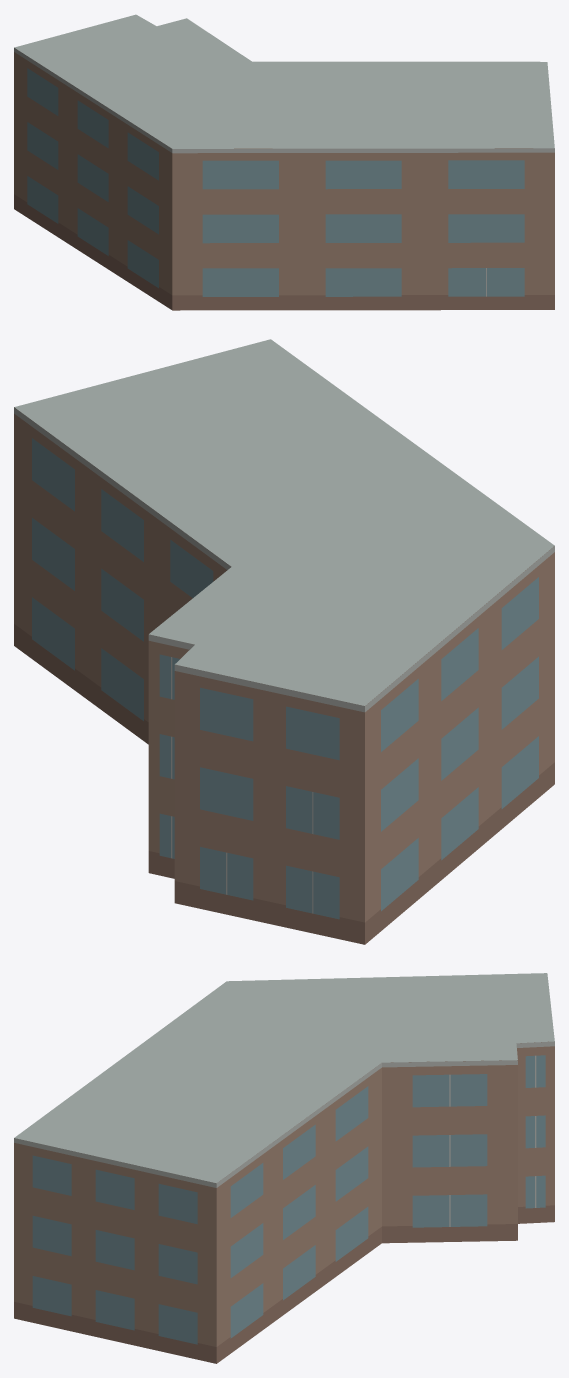
Rendered from survey-upis-32805984.glb.
3 renders of one model, top to bottom at view 1: azimuth 30°, elevation 25°; view 2: azimuth 150°, elevation 25°; view 3: azimuth 270°, elevation 25°, orthographic. The views are drawn at different scales.
Visible parts, largest first — view 1: survey-upis-32805984.tmp; view 2: survey-upis-32805984.tmp; view 3: survey-upis-32805984.tmp.
Part boxes in pixels (x1,y1,x2,y2): survey-upis-32805984.tmp: (14, 14, 554, 310); survey-upis-32805984.tmp: (14, 339, 554, 944); survey-upis-32805984.tmp: (14, 973, 554, 1363).
Bounding box in the file's own units: 22.86 × 9.15 × 24.84.
